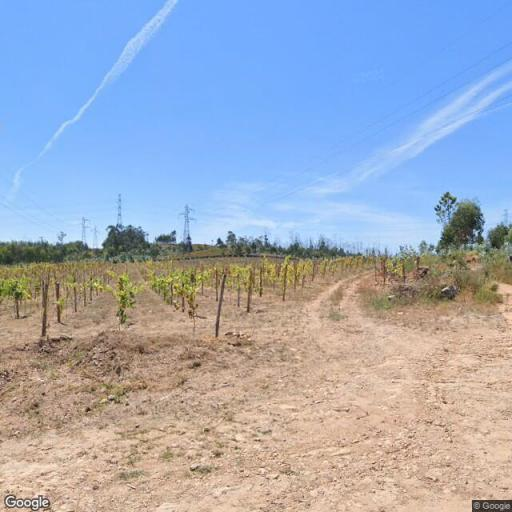ss_4: (176, 203, 197, 245), (76, 215, 90, 244), (90, 225, 102, 249)
